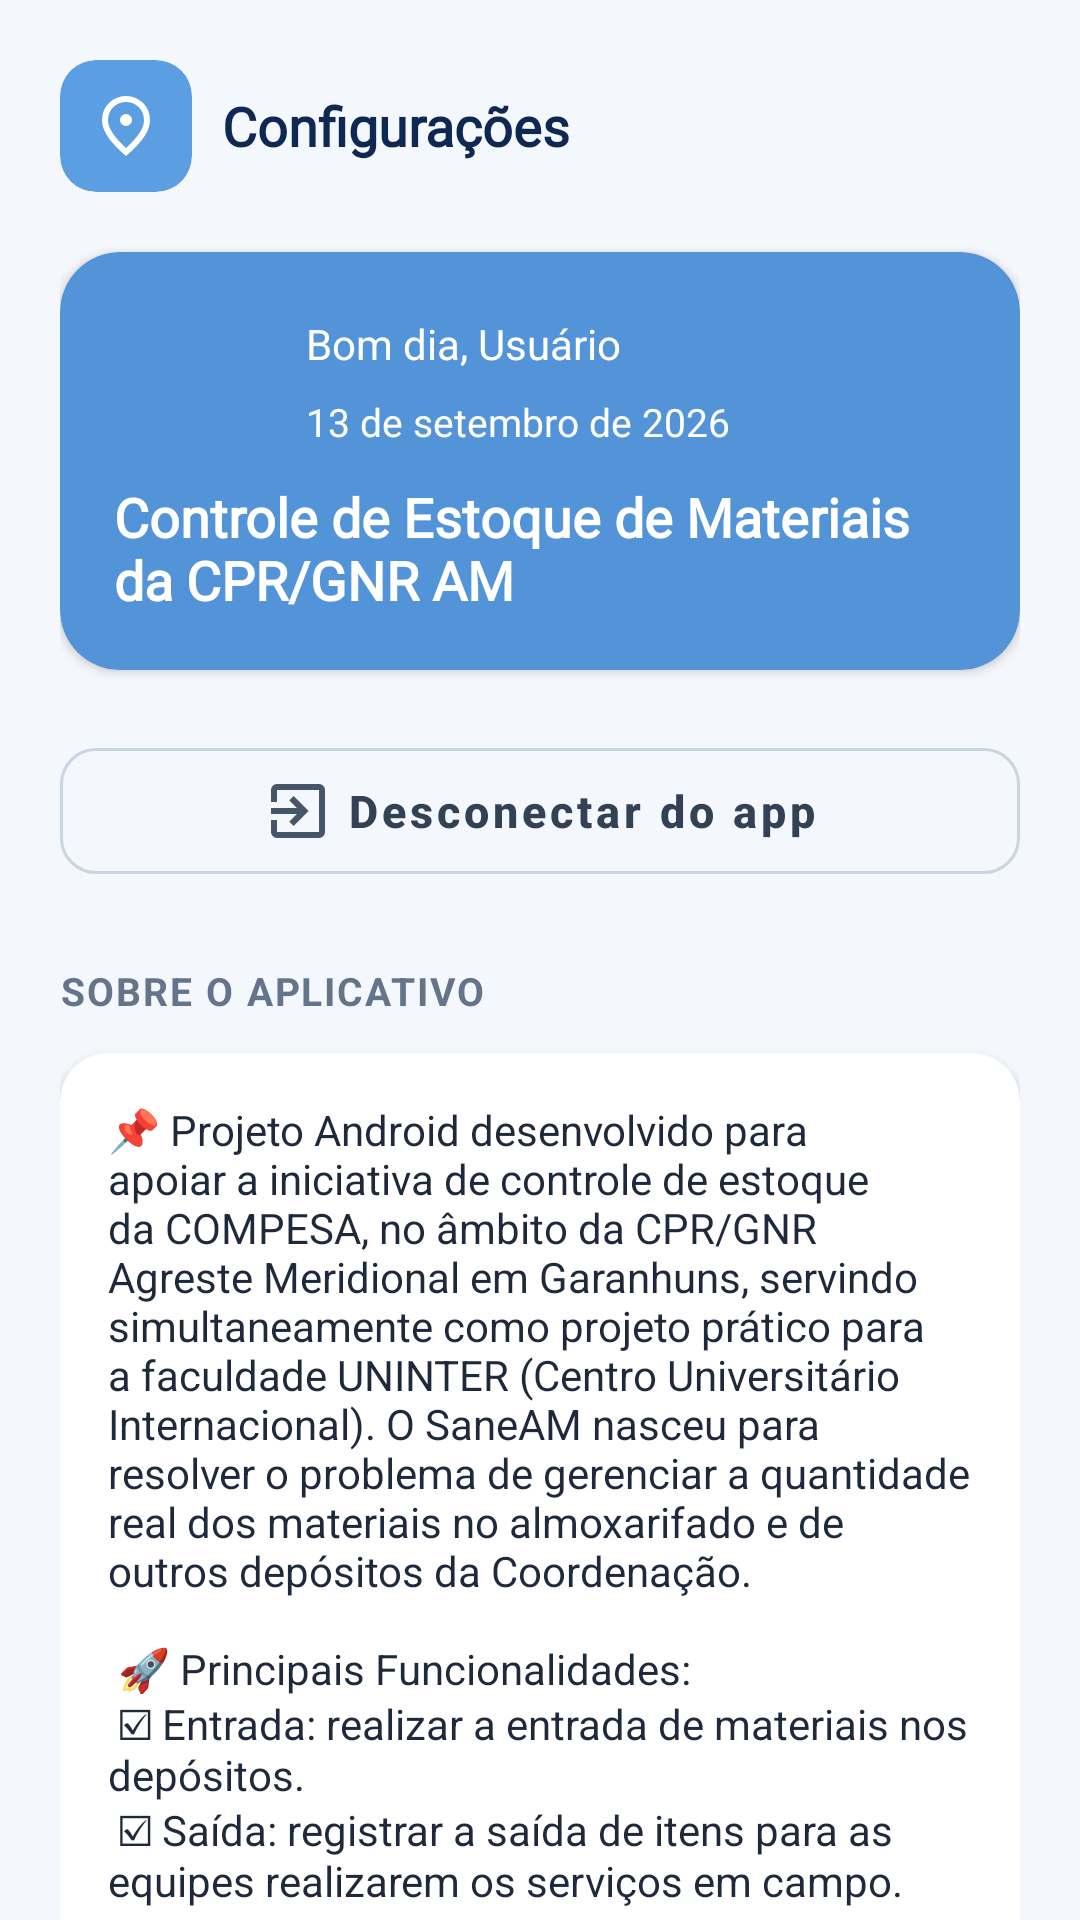

Where icons sit on this 1080px×1920px app screen, as (x1, y1, x2, y2):
location pin: (102, 96, 150, 156)
